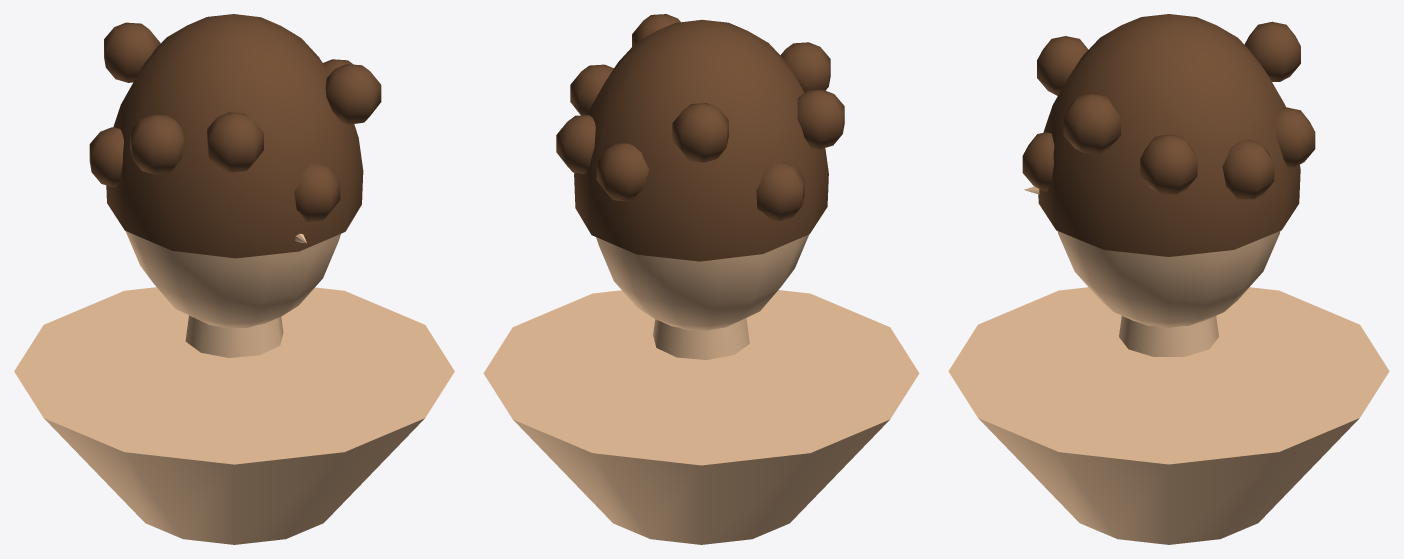
File: raw_001.glb
The picture shows the model from 3 angles, left to right: view 1: azimuth 30°, elevation 25°; view 2: azimuth 150°, elevation 25°; view 3: azimuth 270°, elevation 25°; orthographic projection.
Bounding box in the file's own units: 1.85 × 2.22 × 1.85.
